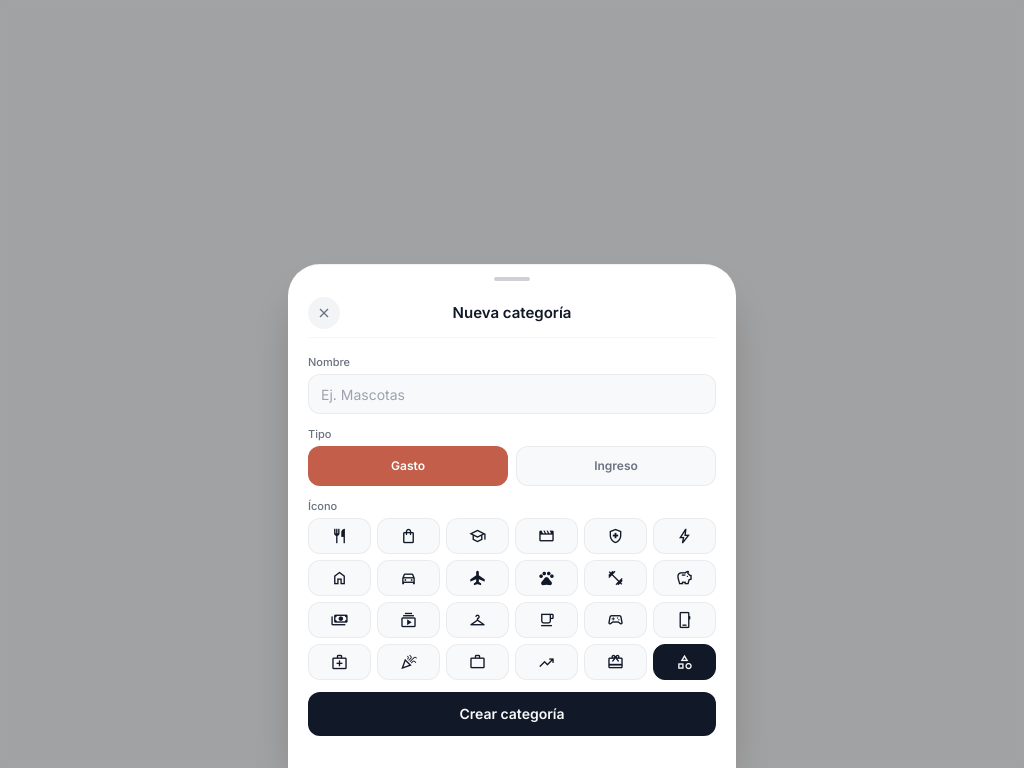
Test: CategoryModal › muestra el error del servicio
In the field labelled "Nombre": (512, 394) [308,374,716,414], type "Mascotas"
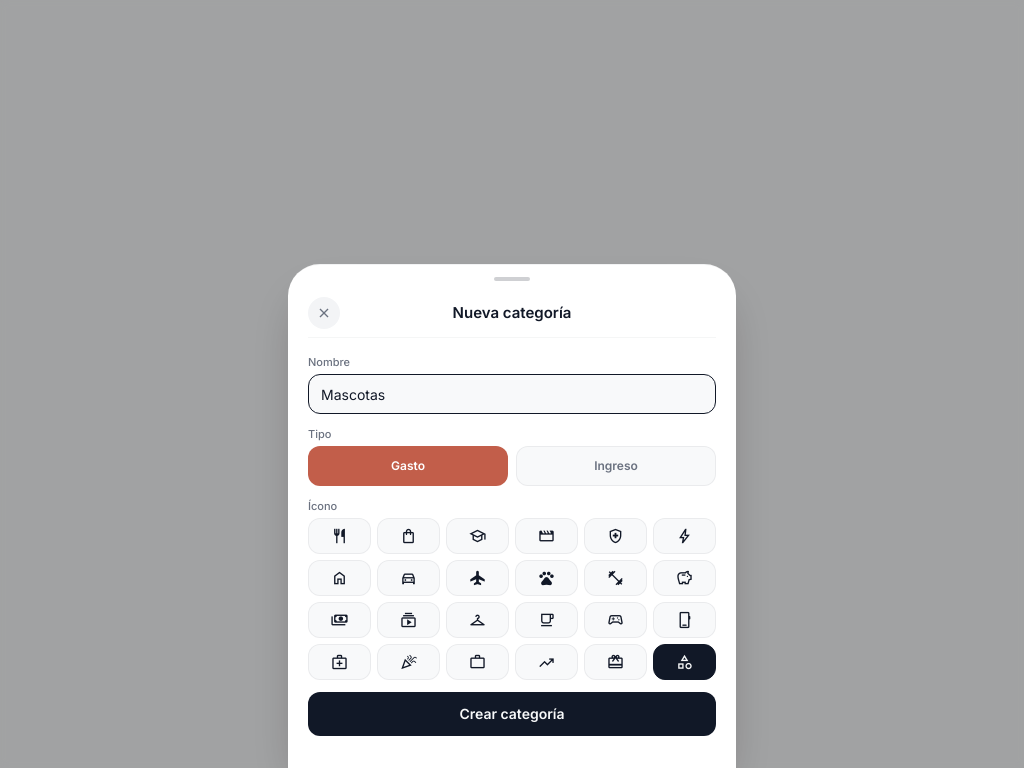
Click the button "Crear categoría": (512, 714) [308,692,716,736]
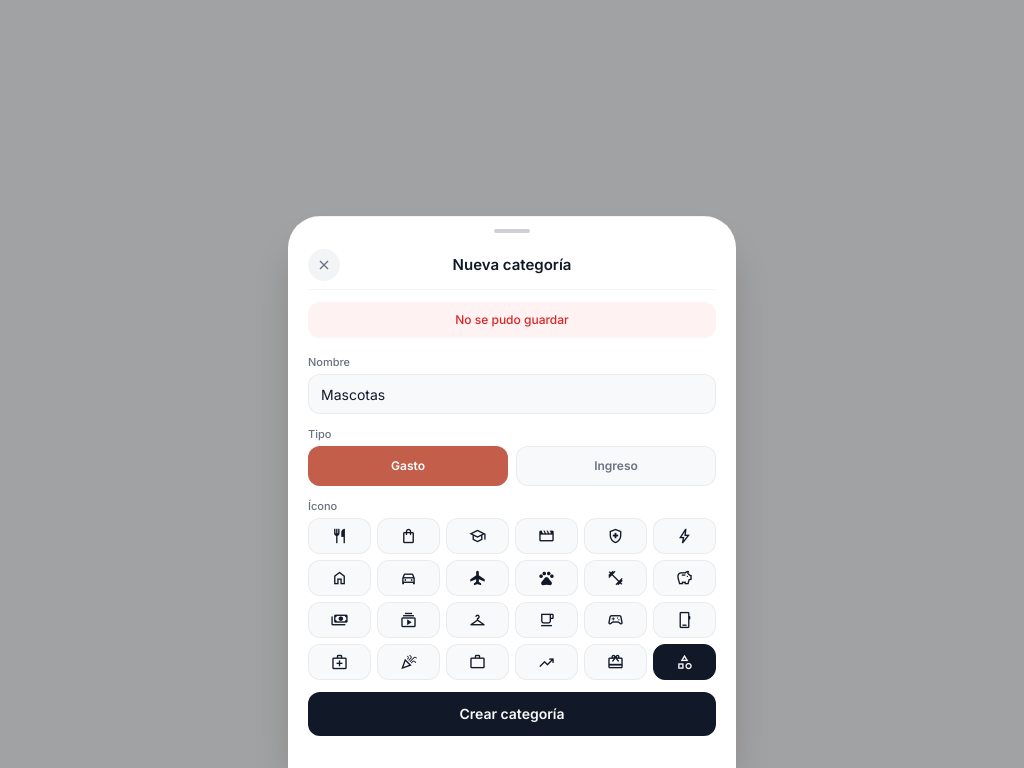
Now the text "No se pudo guardar" is shown, box [308,302,716,338]
